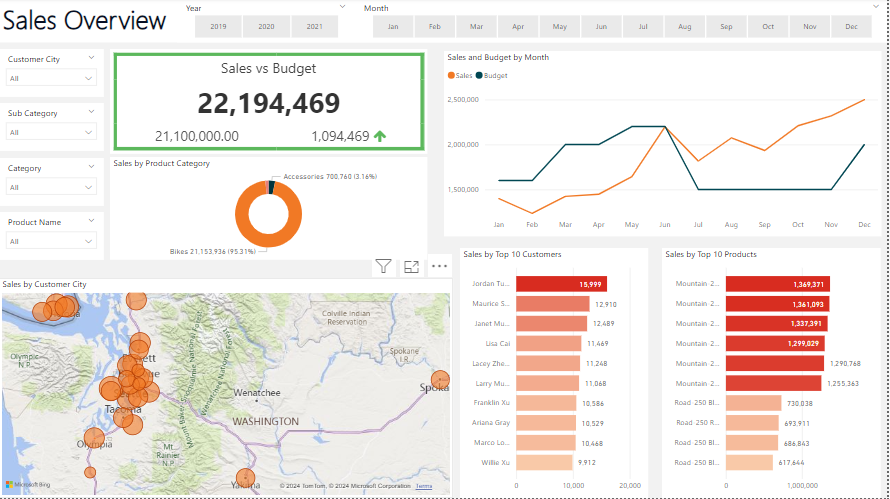

Layout of this report page (visuals, bound fields, positions):
{"tool":"powerbi","page":{"name":"Sales Overview","canvas":[1280,720],"ordinal":0},"visuals":[{"type":"textbox","box":[0,0,1280,64],"z":0},{"type":"slicer","fields":{"Values":["DIM_Calendar.Year"]},"box":[256,0,256,64],"z":1000},{"type":"slicer","fields":{"Values":["DIM_Calendar.MonthShort"]},"box":[512,0,768,64],"z":2000},{"type":"slicer","fields":{"Values":["DIM_Customers.Customer City"]},"box":[0,73,150.5,69.3],"z":3000},{"type":"slicer","fields":{"Values":["DIM_Products.Product Category"]},"box":[0,229.9,150.5,69.3],"z":4000},{"type":"slicer","fields":{"Values":["DIM_Products.Product Name"]},"box":[0,308.4,150.5,69.3],"z":5000},{"type":"slicer","fields":{"Values":["DIM_Products.Sub Category"]},"box":[0,151.4,150.5,69.3],"z":6000},{"type":"barChart","title":"Sales by Top 10 Products","fields":{"Category":["DIM_Products.Product Name"],"Y":["Analysis Metrics.Sales"]},"box":[955,360,314.8,360],"z":7000},{"type":"lineChart","fields":{"Category":["DIM_Calendar.MonthShort"],"Y":["Analysis Metrics.Sales","Analysis Metrics.Budget"]},"box":[640.2,76.3,629.6,266.9],"z":8000},{"type":"barChart","title":"Sales by Top 10 Customers","fields":{"Category":["DIM_Customers.Full Name"],"Y":["Analysis Metrics.Sales"]},"box":[663.3,360,271.3,360],"z":9000},{"type":"donutChart","fields":{"Y":["Analysis Metrics.Sales"],"Series":["DIM_Products.Product Category"]},"box":[160.5,229.7,456.7,148.1],"z":10000},{"type":"map","fields":{"Category":["DIM_Customers.Customer City"],"Size":["Analysis Metrics.Sales"]},"box":[0,403.4,654.4,316.6],"z":12000},{"type":"BBED0A4D4D8D44CE93CF2DAFADEE466C","fields":{"actual":["Analysis Metrics.Sales"],"target2":["Analysis Metrics.Sales / Budget"],"target1":["Analysis Metrics.Budget"]},"box":[160.5,73.4,456.6,151.3],"z":13001}]}

Visuals, with their boxes in screenshot pixels (x1, y1, x2, y2), scaled from the page's 1280x720 canvas onto the 890x499 screenshot:
textbox: bbox(0, 0, 889, 44)
slicer - DIM_Calendar.Year: bbox(178, 0, 356, 44)
slicer - DIM_Calendar.MonthShort: bbox(356, 0, 889, 44)
slicer - DIM_Customers.Customer City: bbox(0, 51, 105, 99)
slicer - DIM_Products.Product Category: bbox(0, 159, 105, 207)
slicer - DIM_Products.Product Name: bbox(0, 214, 105, 262)
slicer - DIM_Products.Sub Category: bbox(0, 105, 105, 153)
"Sales by Top 10 Products" barChart: bbox(664, 250, 883, 498)
lineChart - DIM_Calendar.MonthShort x Analysis Metrics.Sales: bbox(445, 53, 883, 238)
"Sales by Top 10 Customers" barChart: bbox(461, 250, 650, 498)
donutChart - Analysis Metrics.Sales x DIM_Products.Product Category: bbox(112, 159, 429, 262)
map - DIM_Customers.Customer City x Analysis Metrics.Sales: bbox(0, 280, 455, 498)
BBED0A4D4D8D44CE93CF2DAFADEE466C - Analysis Metrics.Sales x Analysis Metrics.Sales / Budget: bbox(112, 51, 429, 156)
